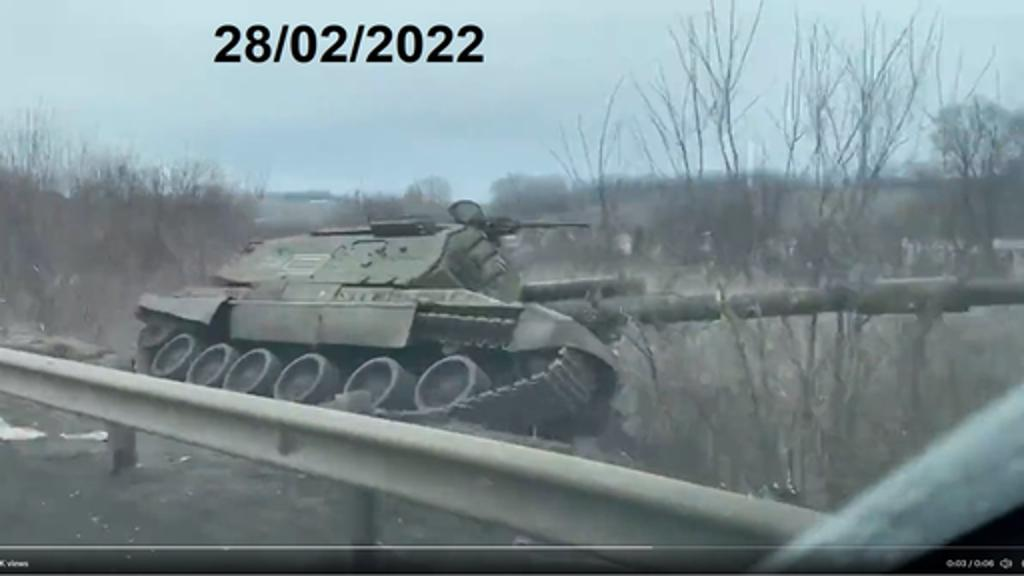ART: (132, 198, 1022, 444)
